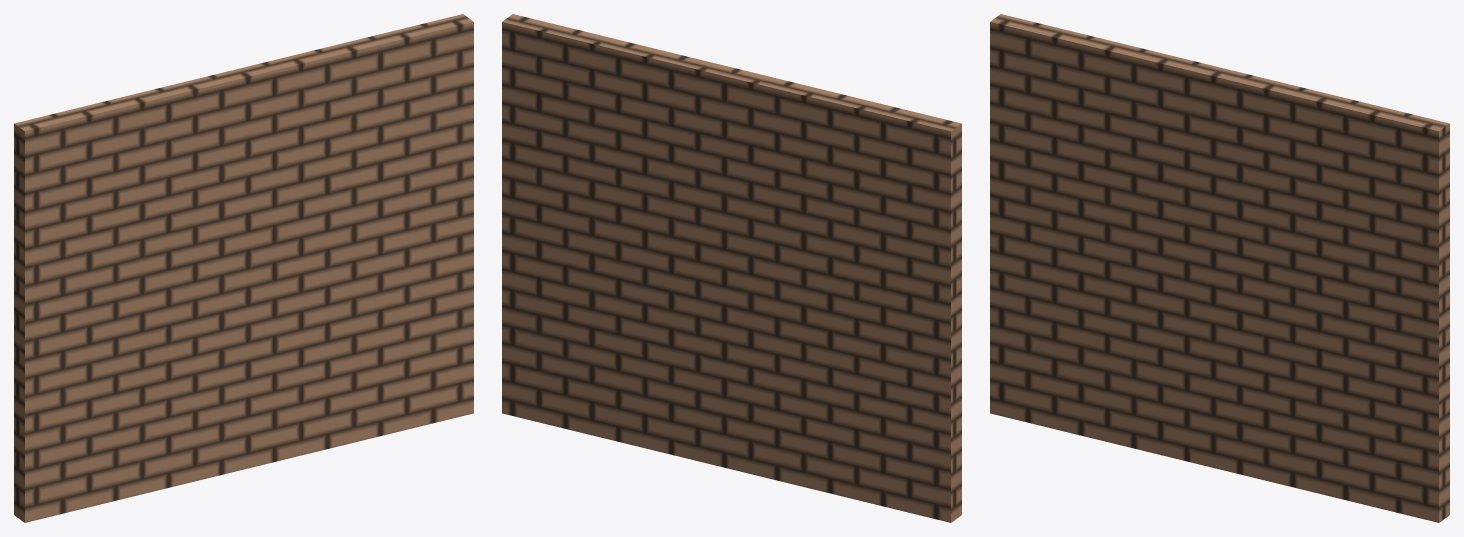
Rendered from SM_wall_brick_01.fbx.
3 renders of one model, left to right at view 1: azimuth 30°, elevation 25°; view 2: azimuth 150°, elevation 25°; view 3: azimuth 330°, elevation 25°, orthographic.
Visible parts, largest first — view 1: wall_brick_01; view 2: wall_brick_01; view 3: wall_brick_01.
Boxes of the visible parts, x1=… form: wall_brick_01: x1=14, y1=14, x2=473, y2=522; wall_brick_01: x1=502, y1=14, x2=961, y2=522; wall_brick_01: x1=990, y1=14, x2=1449, y2=522.
Bounding box in the file's own units: 300 × 250 × 12.45.
Materials: 1 (1 with a texture image).
